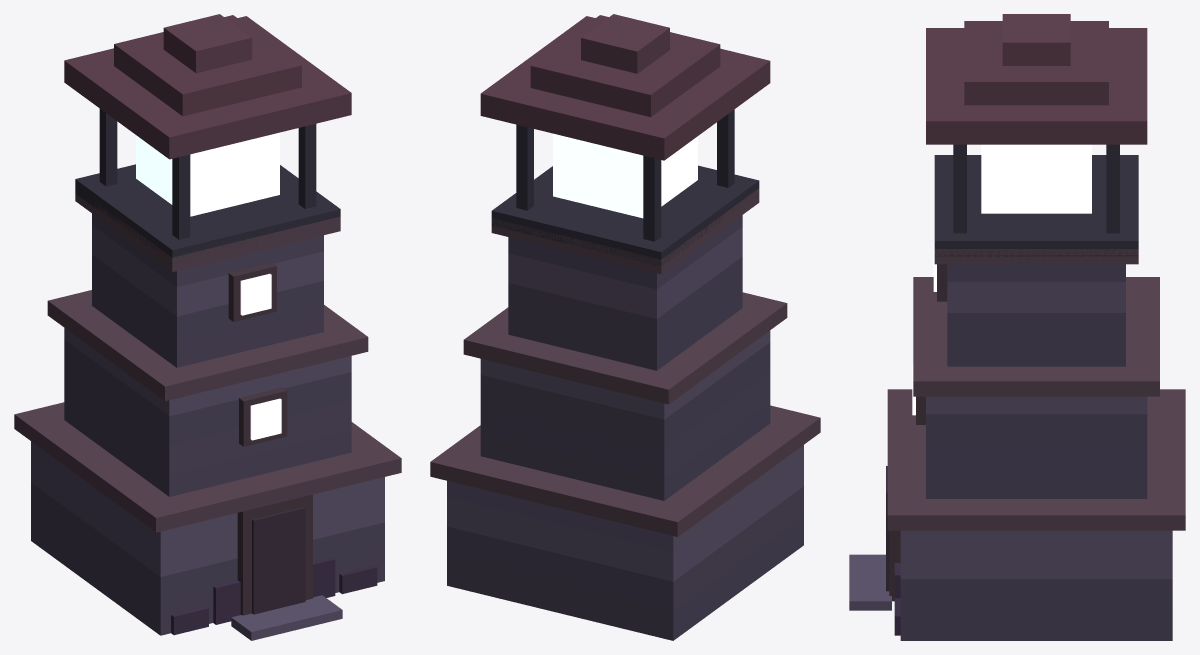
The model's file is lighthouse_polluted.glb.
3 views of the same model, side by side, from view 1: azimuth 30°, elevation 25°; view 2: azimuth 150°, elevation 25°; view 3: azimuth 270°, elevation 25° (orthographic). The views are drawn at different scales.
Parts seen in each view (by area): view 1: lighthouse_blocks; view 2: lighthouse_blocks; view 3: lighthouse_blocks.
Boxes of the visible parts, box(x1,y1,x2,y2) form: lighthouse_blocks: box(14, 14, 401, 640); lighthouse_blocks: box(430, 14, 820, 640); lighthouse_blocks: box(849, 14, 1185, 640).
Size of the model in its own units: 3.5 by 7.25 by 3.95.
